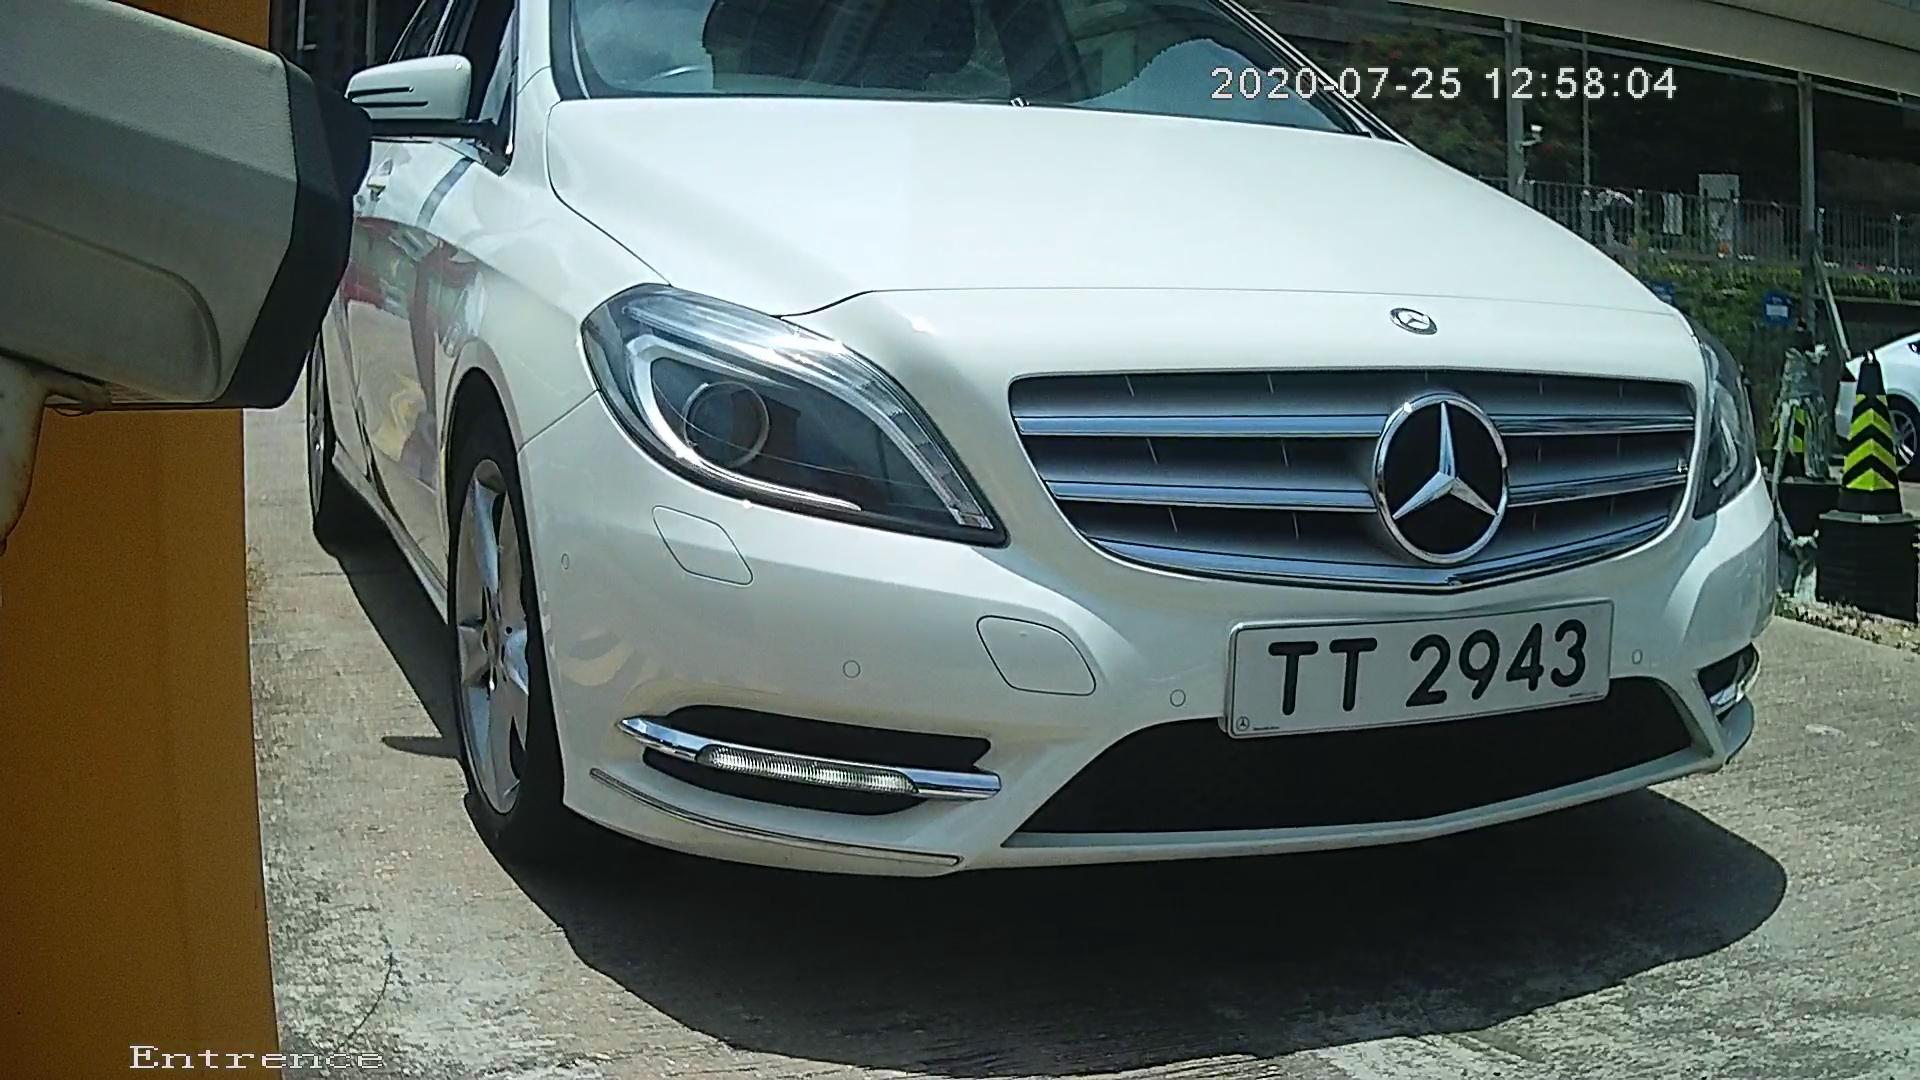License Plate: (1192, 589, 1638, 748)
